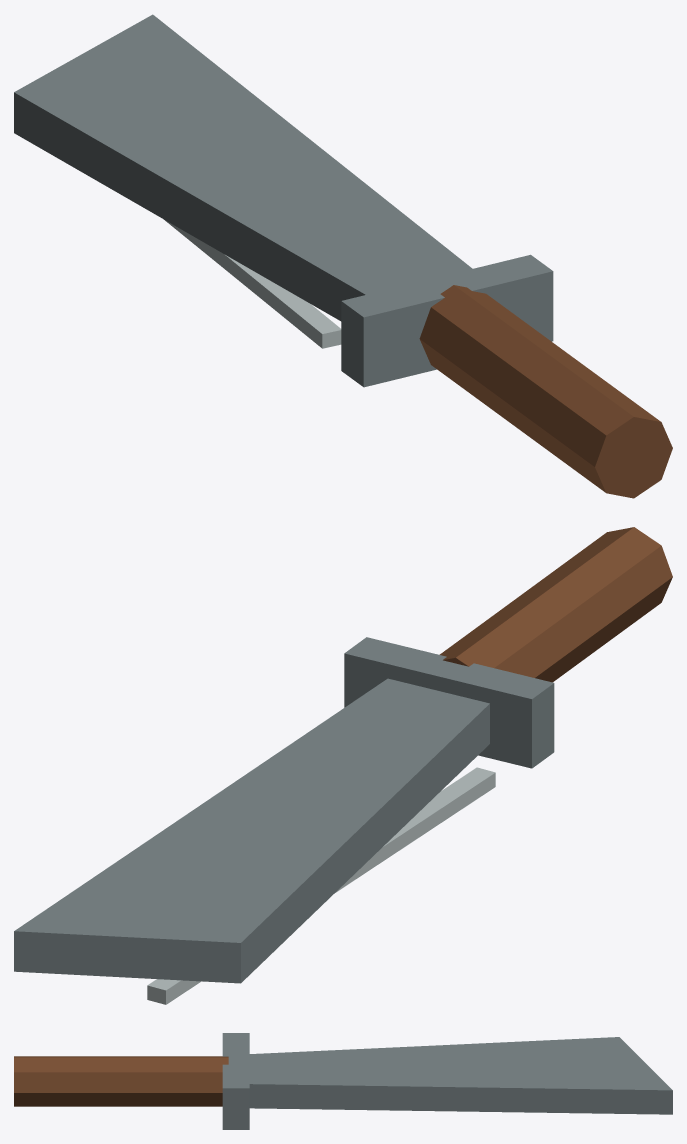
The model's file is machete.glb.
The picture shows the model from 3 angles, top to bottom: view 1: azimuth 30°, elevation 25°; view 2: azimuth 150°, elevation 25°; view 3: azimuth 270°, elevation 25°; orthographic projection. The views are drawn at different scales.
Visible parts, largest first — view 1: MacheteBlade, MacheteGrip, MacheteGuard, MacheteCuttingEdge; view 2: MacheteBlade, MacheteGrip, MacheteGuard, MacheteCuttingEdge; view 3: MacheteBlade, MacheteGrip, MacheteGuard.
Boxes of the visible parts, bbox=[...] form: MacheteBlade: bbox=[14, 14, 472, 321]; MacheteGrip: bbox=[419, 285, 672, 498]; MacheteGuard: bbox=[341, 254, 553, 387]; MacheteCuttingEdge: bbox=[164, 219, 341, 348]; MacheteBlade: bbox=[14, 678, 489, 983]; MacheteGrip: bbox=[439, 527, 672, 682]; MacheteGuard: bbox=[344, 637, 554, 768]; MacheteCuttingEdge: bbox=[147, 767, 495, 1004]; MacheteBlade: bbox=[249, 1037, 672, 1114]; MacheteGrip: bbox=[14, 1056, 228, 1106]; MacheteGuard: bbox=[222, 1033, 249, 1129].
Size of the model in its own units: 0.37 by 0.14 by 1.72.
